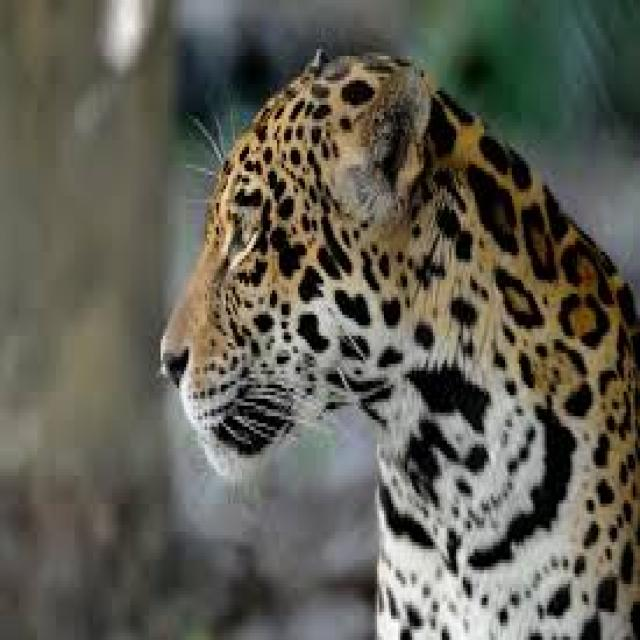Jaguar: (158, 35, 640, 640)
